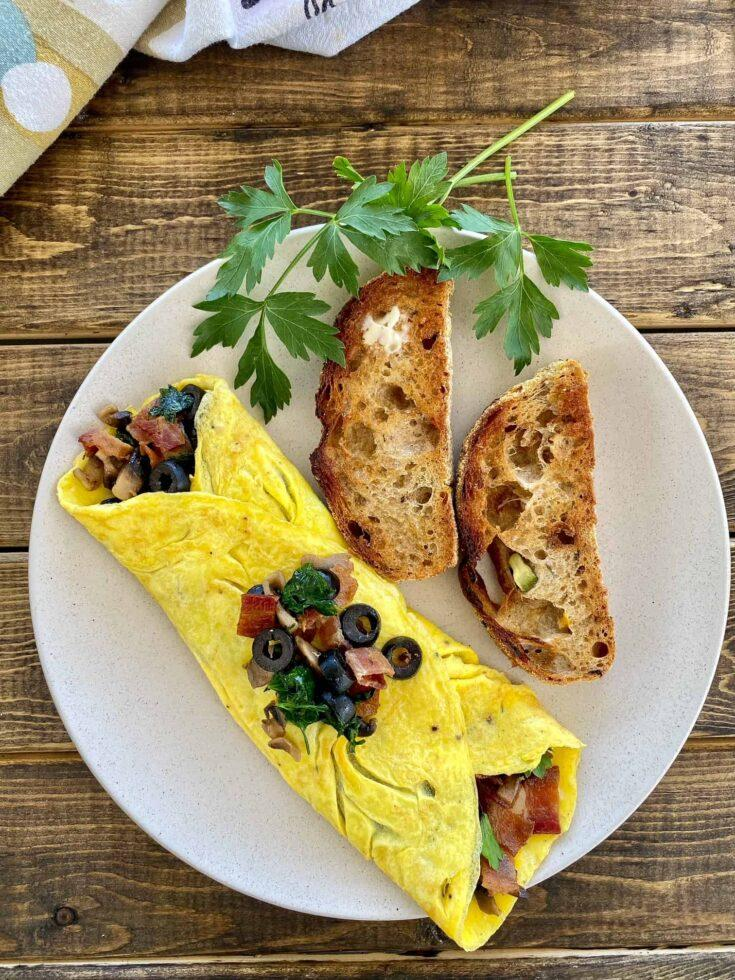omelette: (62, 414, 535, 879)
